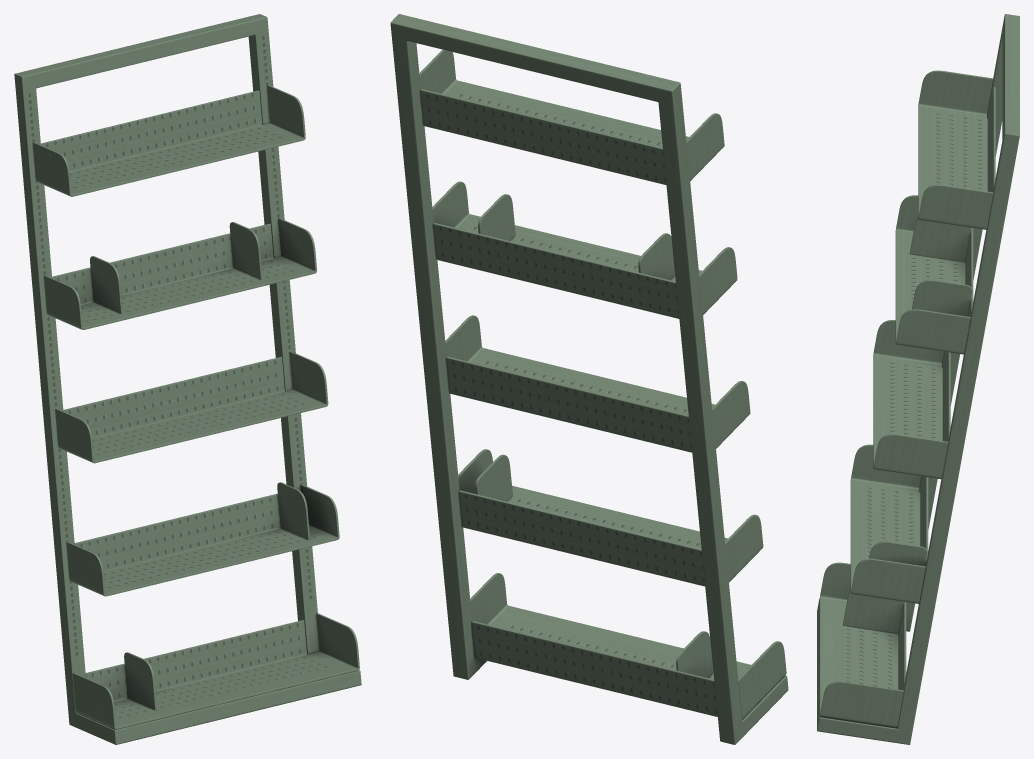
File: Estante.fbx
3 views of the same model, side by side, from view 1: azimuth 30°, elevation 25°; view 2: azimuth 150°, elevation 25°; view 3: azimuth 270°, elevation 25° (orthographic). The views are drawn at different scales.
Parts seen in each view (by area): view 1: 10230_Garage_Shelves_Metal_v2_Iterations-2; view 2: 10230_Garage_Shelves_Metal_v2_Iterations-2; view 3: 10230_Garage_Shelves_Metal_v2_Iterations-2.
Part boxes in pixels (x1=…): 10230_Garage_Shelves_Metal_v2_Iterations-2: x1=14, y1=14, x2=361, y2=744; 10230_Garage_Shelves_Metal_v2_Iterations-2: x1=390, y1=14, x2=788, y2=744; 10230_Garage_Shelves_Metal_v2_Iterations-2: x1=817, y1=14, x2=1019, y2=744.
Size of the model in its own units: 9150 by 21784 by 6550.
1 material, 1 textured.
